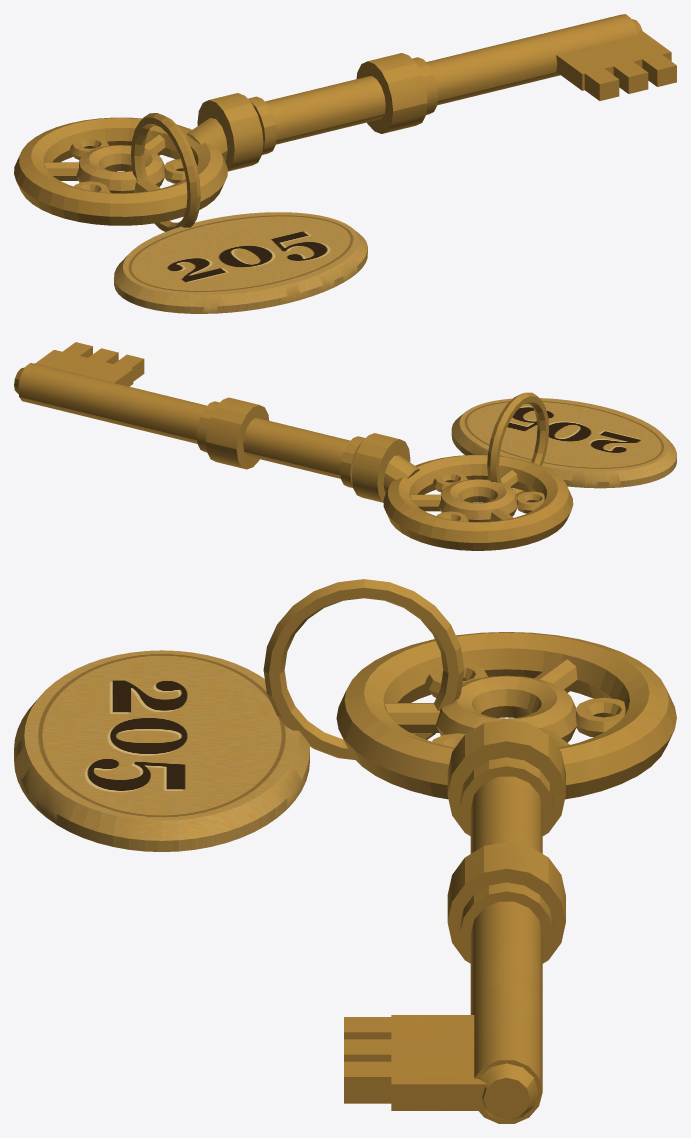
File: key205.glb
The picture shows the model from 3 angles, top to bottom: view 1: azimuth 30°, elevation 25°; view 2: azimuth 150°, elevation 25°; view 3: azimuth 270°, elevation 25°; orthographic projection. The views are drawn at different scales.
Parts seen in each view (by area): view 1: brass, tag; view 2: brass, tag; view 3: brass, tag.
Part boxes in pixels (x1,y1,x2,y2): brass: (14,14,676,231); tag: (114,212,367,313); brass: (14,342,573,550); tag: (451,398,676,488); brass: (263,579,676,1123); tag: (14,650,309,851).
Size of the model in its own units: 0.108 by 0.019 by 0.0627.
2 materials, 2 textured.
